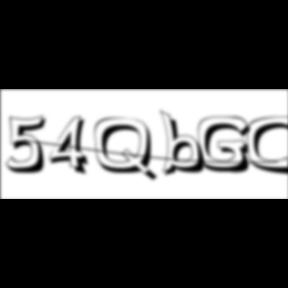4: (48, 115, 96, 179)
5: (6, 114, 53, 176)
G: (198, 116, 258, 176)
Q: (94, 117, 160, 184)
b: (160, 109, 213, 179)
